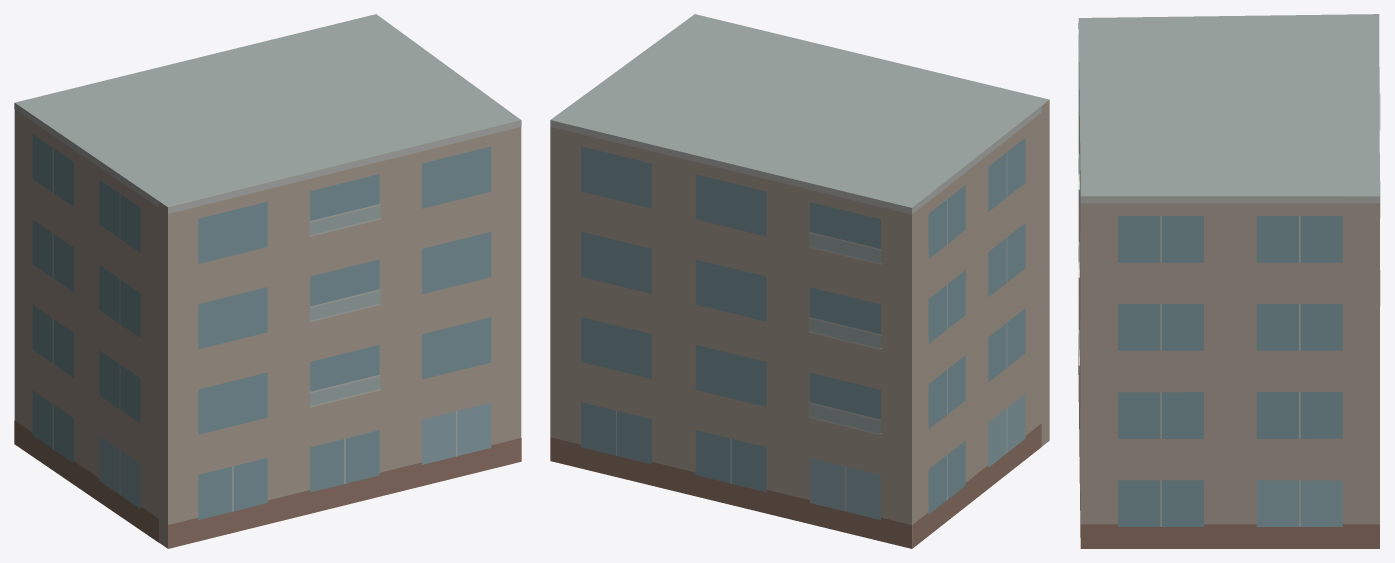
The model's file is survey-upis-32867080.glb.
The picture shows the model from 3 angles, left to right: view 1: azimuth 30°, elevation 25°; view 2: azimuth 150°, elevation 25°; view 3: azimuth 270°, elevation 25°; orthographic projection. The views are drawn at different scales.
Parts seen in each view (by area): view 1: survey-upis-32867080.tmp; view 2: survey-upis-32867080.tmp; view 3: survey-upis-32867080.tmp.
Boxes of the visible parts, x1,y1,x2,y2 form: survey-upis-32867080.tmp: (14, 14, 521, 548); survey-upis-32867080.tmp: (550, 14, 1049, 548); survey-upis-32867080.tmp: (1078, 14, 1380, 548).
Bounding box in the file's own units: 14 × 12.6 × 9.8.
